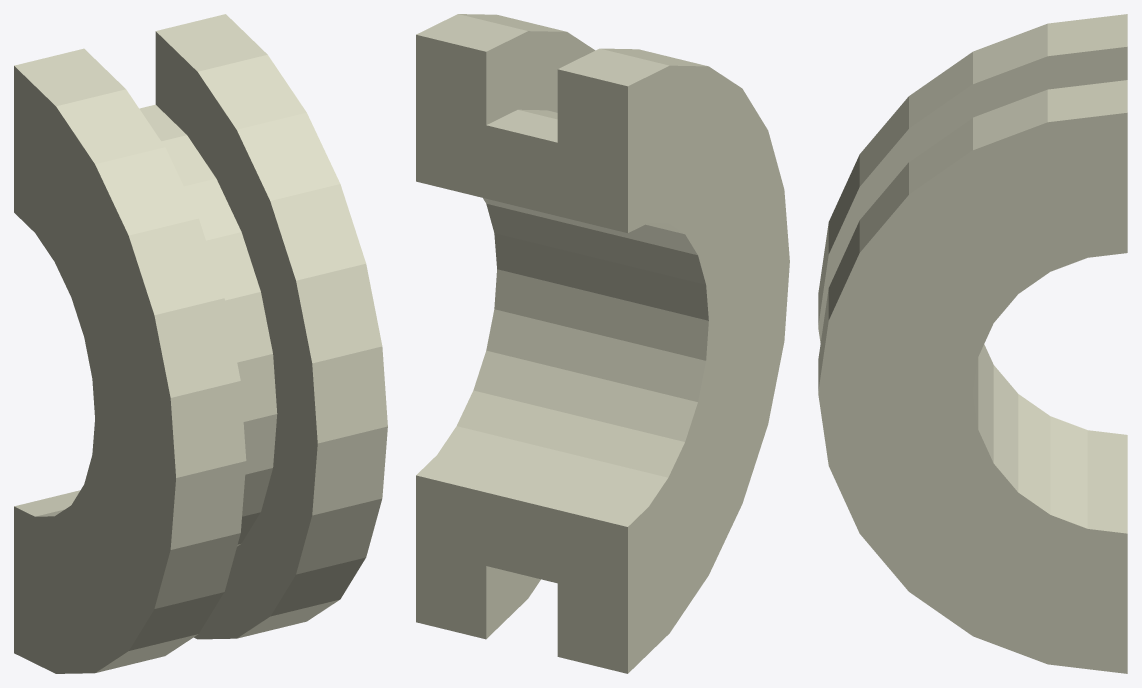
File: section_074.obj
3 views of the same model, side by side, from view 1: azimuth 30°, elevation 25°; view 2: azimuth 150°, elevation 25°; view 3: azimuth 270°, elevation 25° (orthographic). The views are drawn at different scales.
Size of the model in its own units: 3.02 by 8 by 4.
